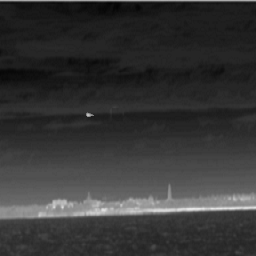Target: (85, 112, 95, 117)
